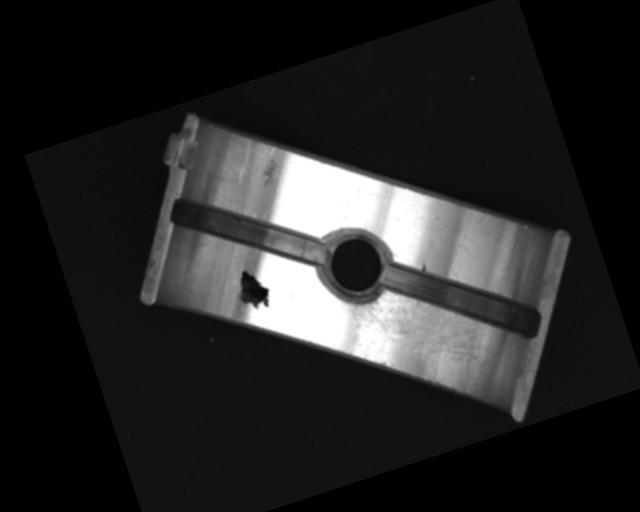blot: (230, 263, 274, 315)
bruise: (253, 157, 284, 191), (417, 260, 428, 274)
gap: (376, 225, 544, 375), (166, 162, 326, 302)
hole: (311, 223, 398, 309)
scratch: (340, 258, 499, 409)
